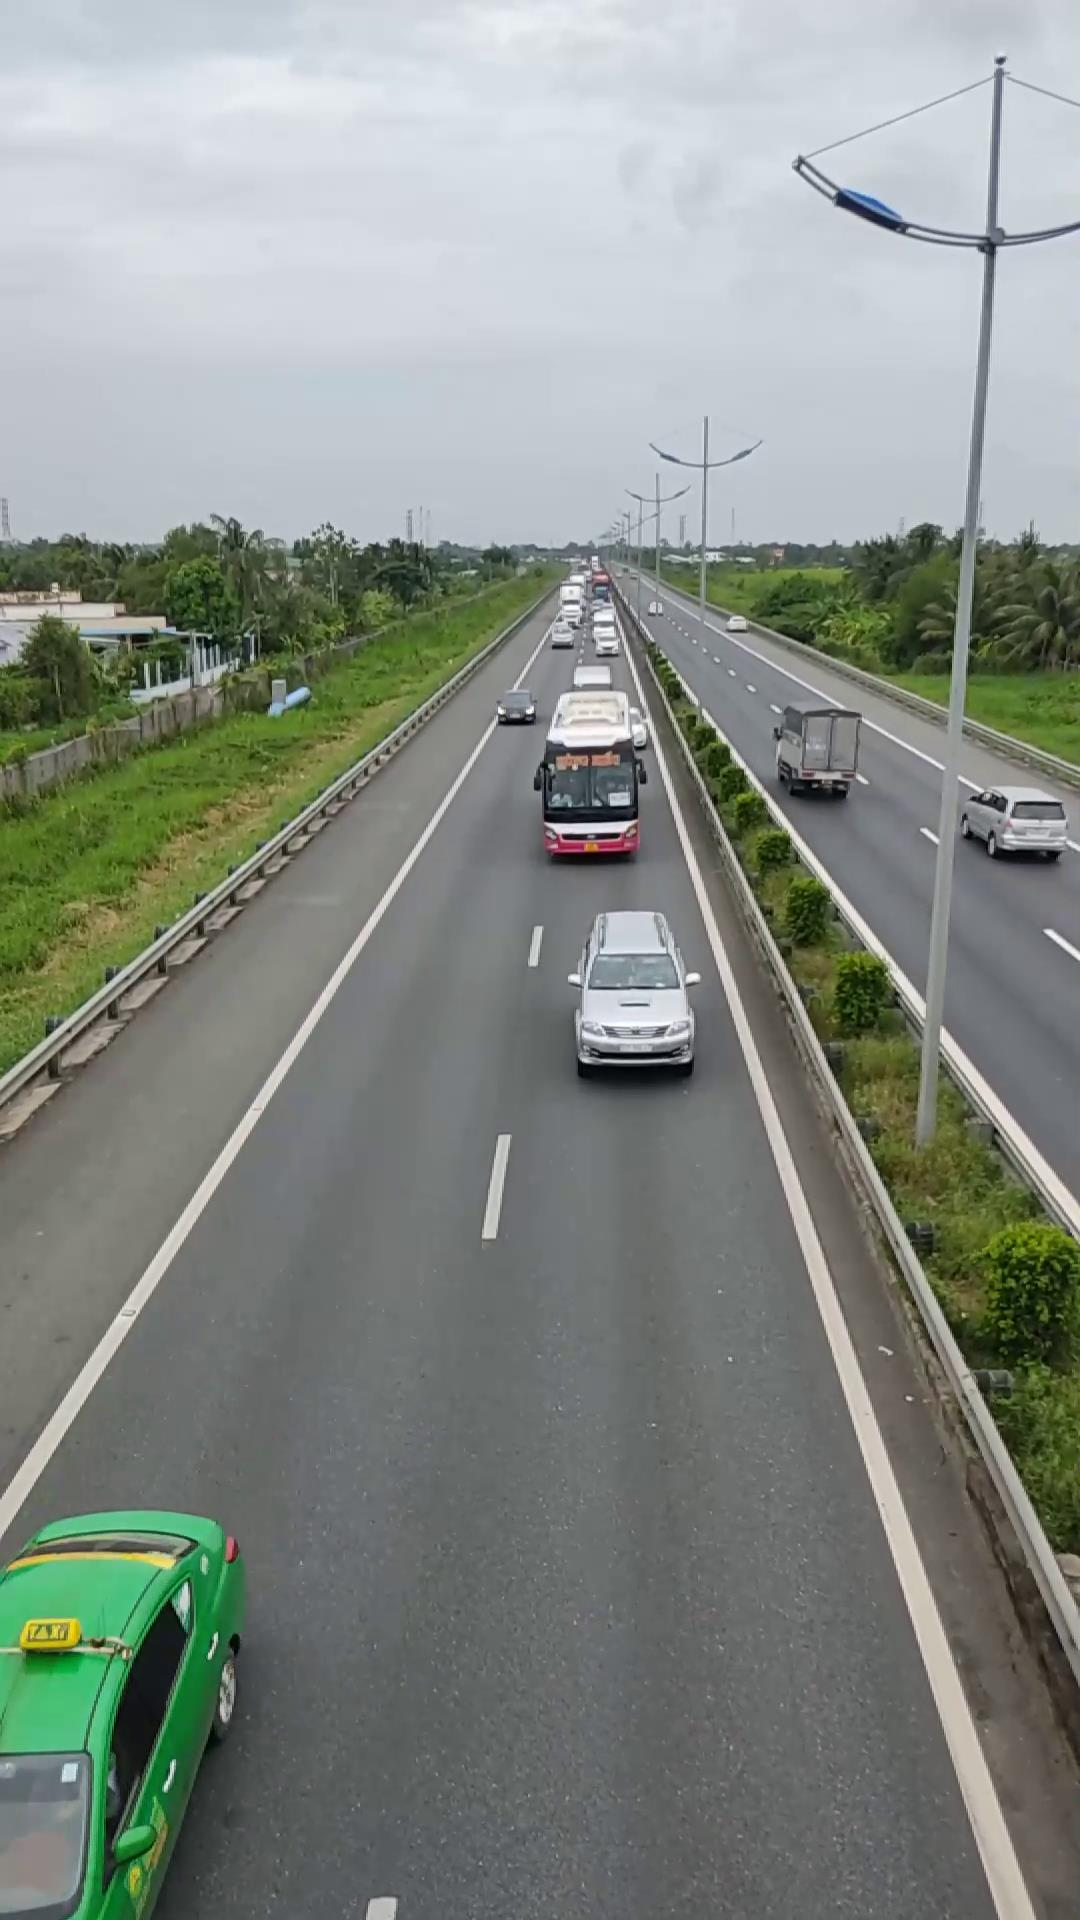bus: (532, 695, 643, 857)
car: (0, 1507, 248, 1919), (568, 910, 697, 1074), (955, 779, 1072, 859)
truck: (770, 696, 861, 797)
